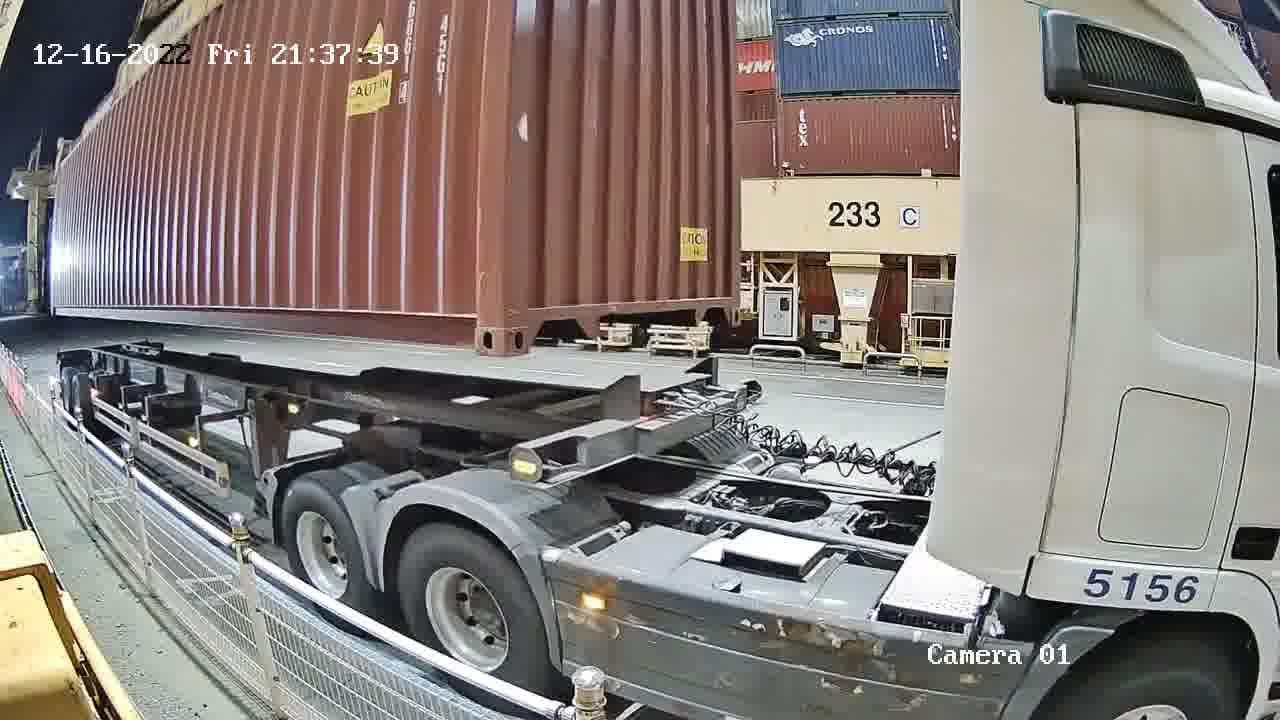Chassis: (511, 380, 766, 490)
Hole_L: (504, 284, 561, 359)
Hole_R: (417, 280, 502, 353), (705, 262, 743, 326)
Tire: (396, 523, 548, 699), (280, 479, 366, 611)
